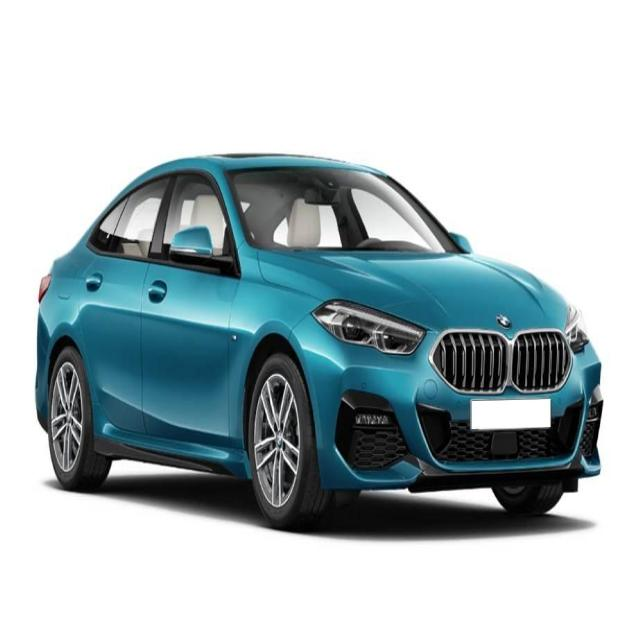cars: (23, 143, 624, 537)
